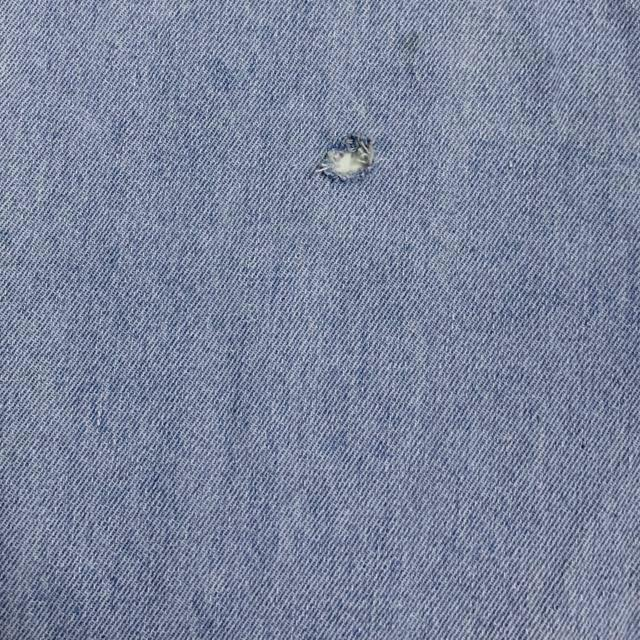other: (302, 128, 388, 204)
